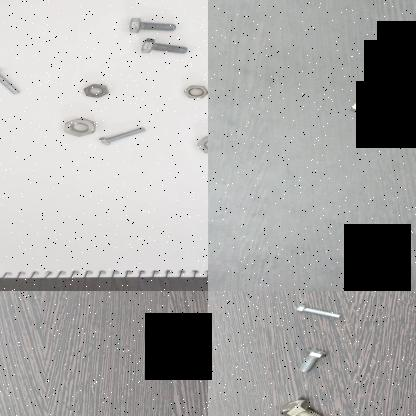Bolts: (286, 298, 348, 326), (290, 343, 331, 376), (119, 16, 184, 36), (273, 398, 345, 416), (128, 38, 192, 58), (100, 124, 152, 148), (0, 61, 24, 99)
NUTS: (70, 78, 116, 101), (60, 113, 99, 137), (344, 94, 379, 118), (179, 82, 208, 103), (194, 133, 208, 157)
